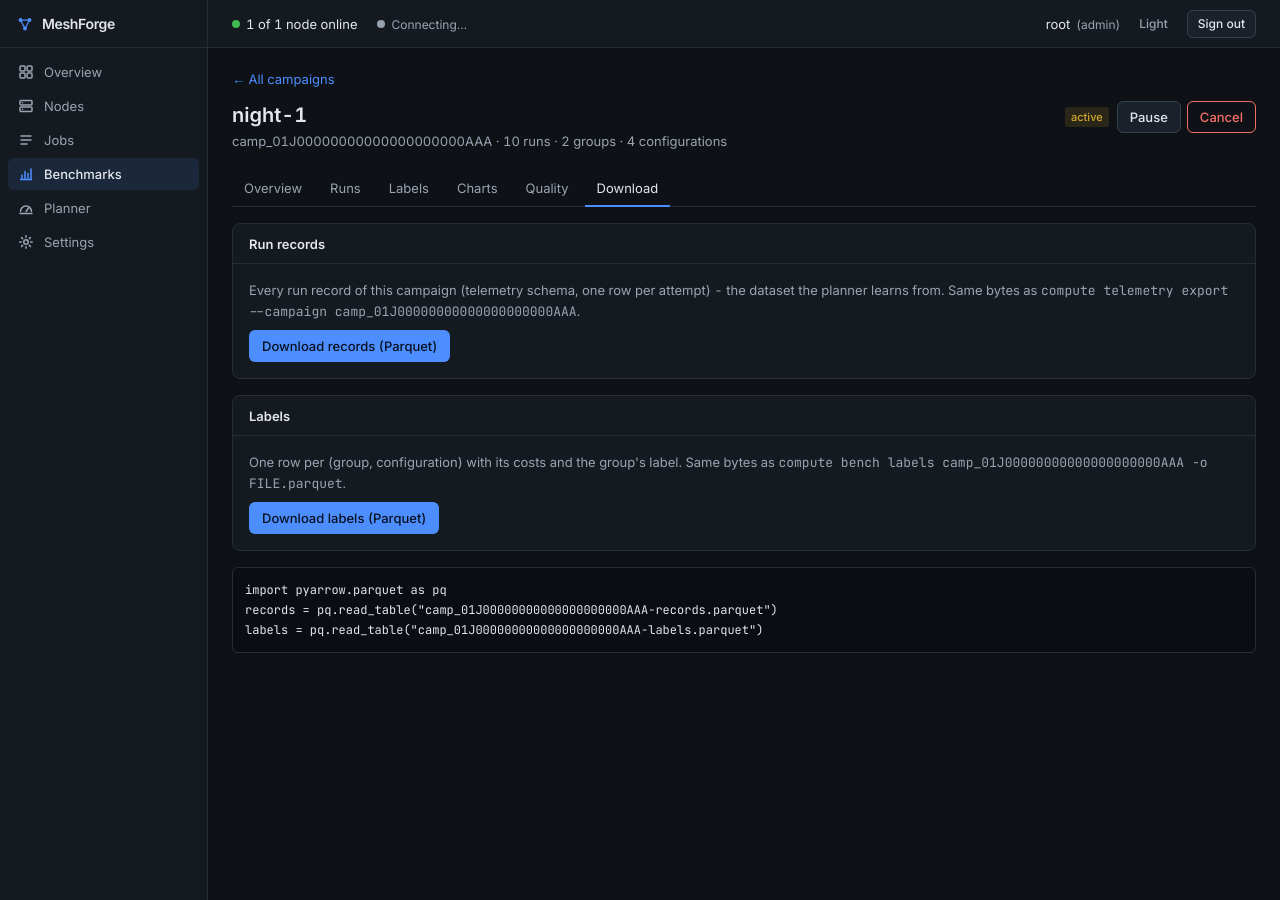
Test case: campaign detail › download: a truncated body is refused; a 413 shows the server's message
The width and height of the screenshot is (1280, 900).
Click the button "Download labels (Parquet)". click: (344, 518)
box: [249,502,439,534]
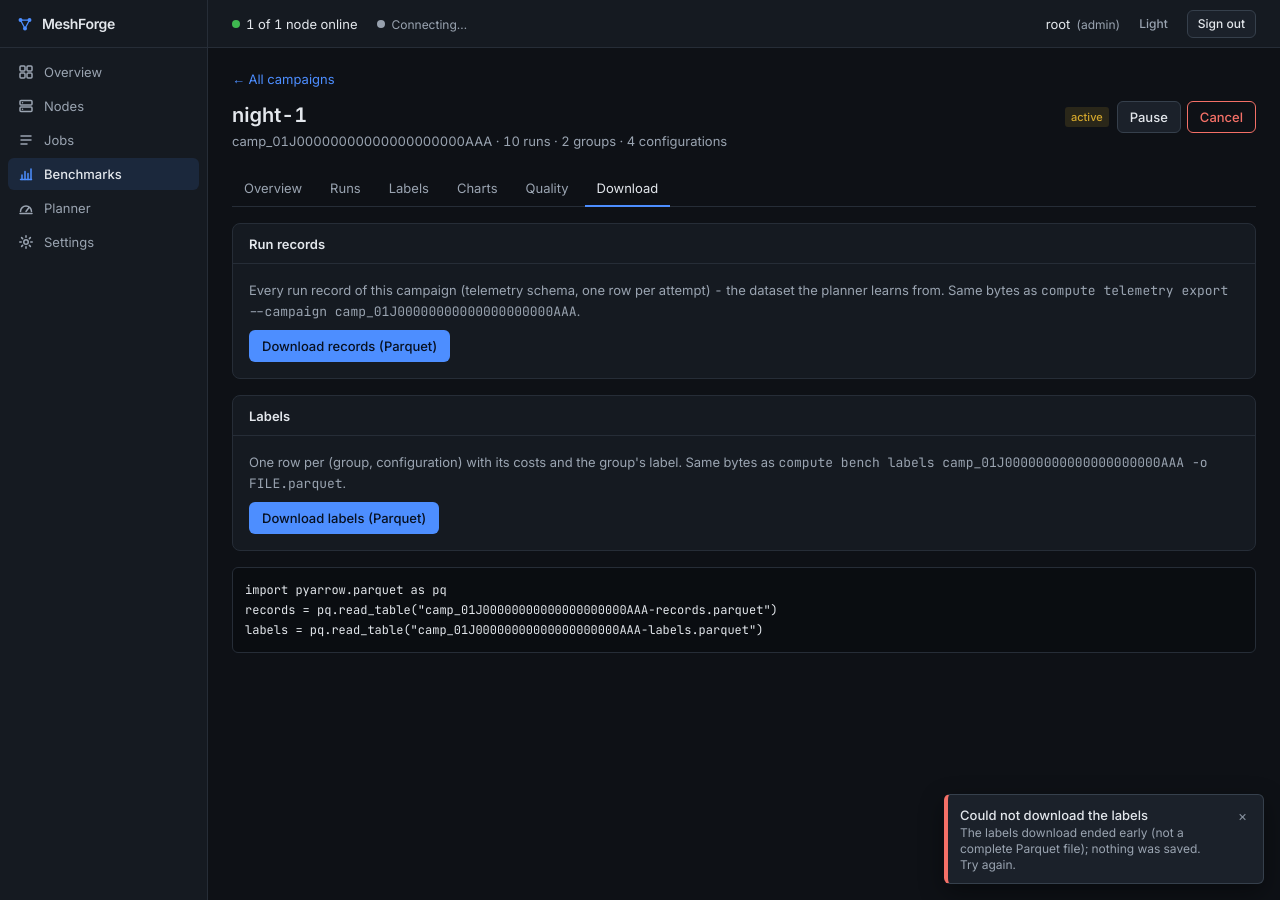
expect the text "Could not download the labels" is shown: met, box [960,807,1148,823]
expect the text "ended early (not a complete Parquet file); nothing was saved" is shown: met, box [960,825,1200,872]
Click the button "Download records (Parquet)". click: (350, 346)
box: [249,330,450,362]
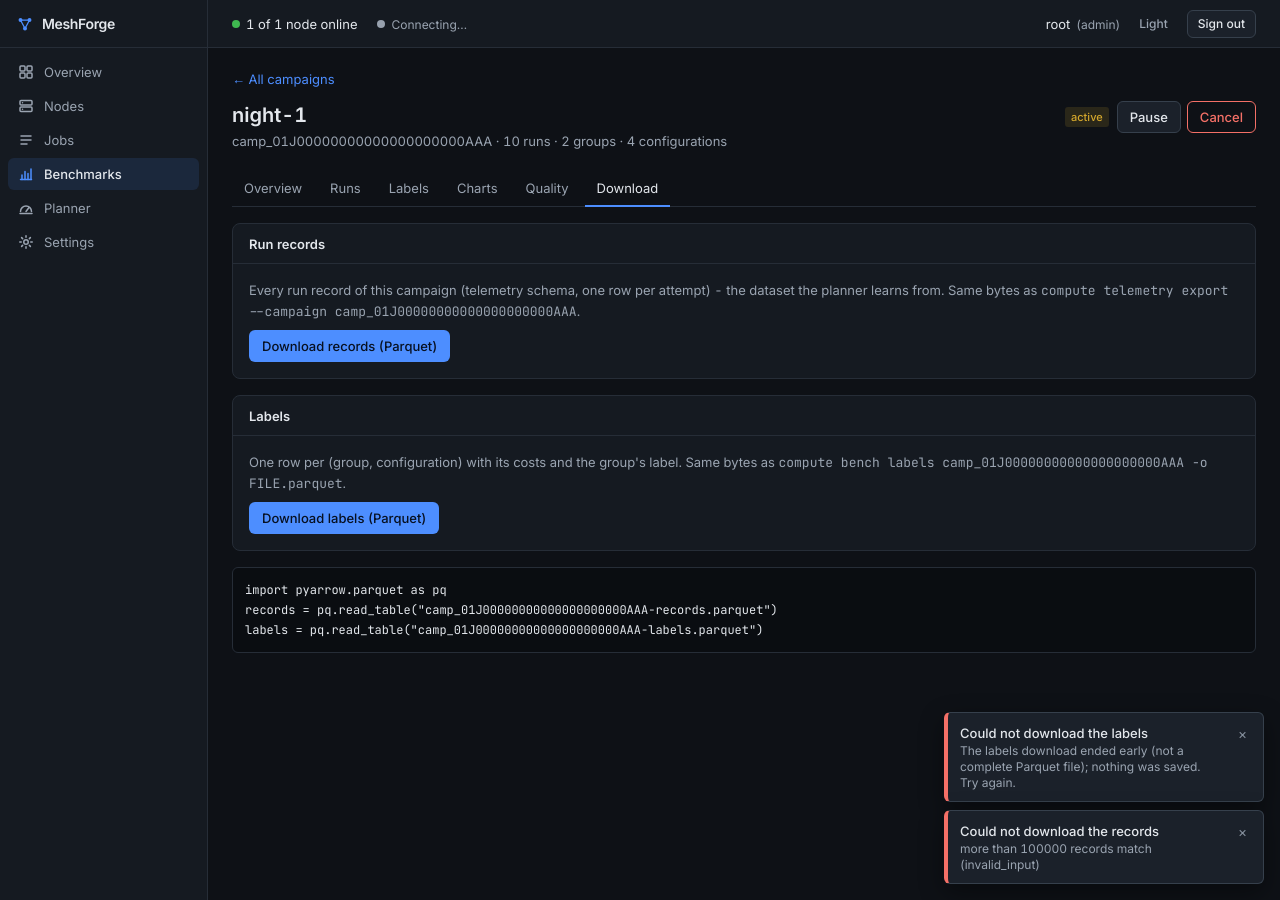
expect the text "more than 100000 records match (invalid_input)" is shown: met, box [960,841,1152,872]
